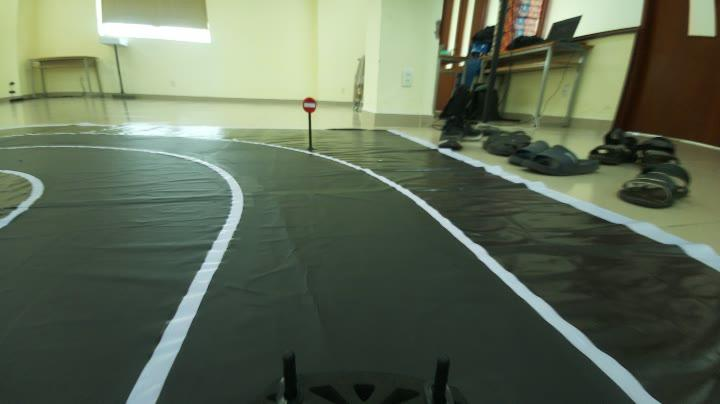no_entry: (300, 92, 323, 116)
